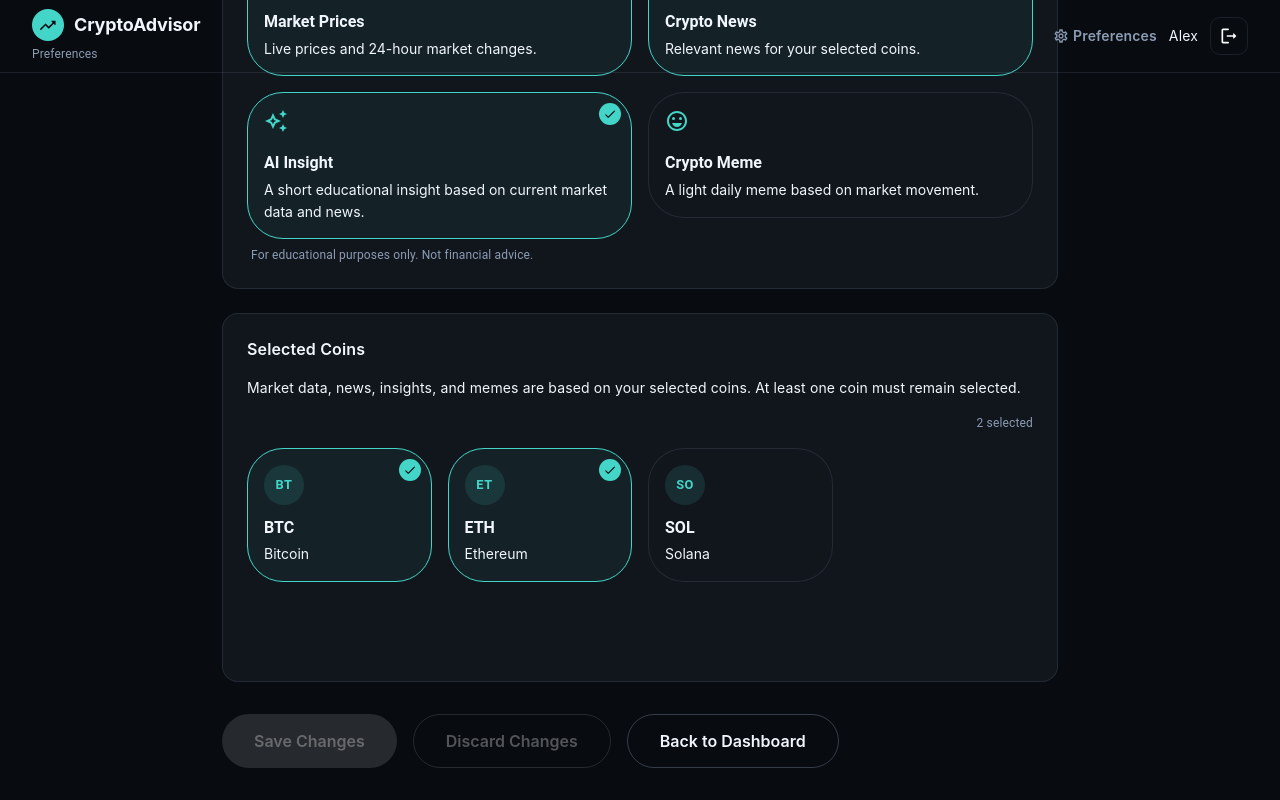
preferences page › shows a safe error when coin updates fail
The image size is (1280, 800).
(page scrolled)
Expected: the button "Save Changes" is shown, x1=222 y1=714 x2=397 y2=768
Click the button "SO SOL Solana" at (740, 515), box x1=648 y1=448 x2=832 y2=582
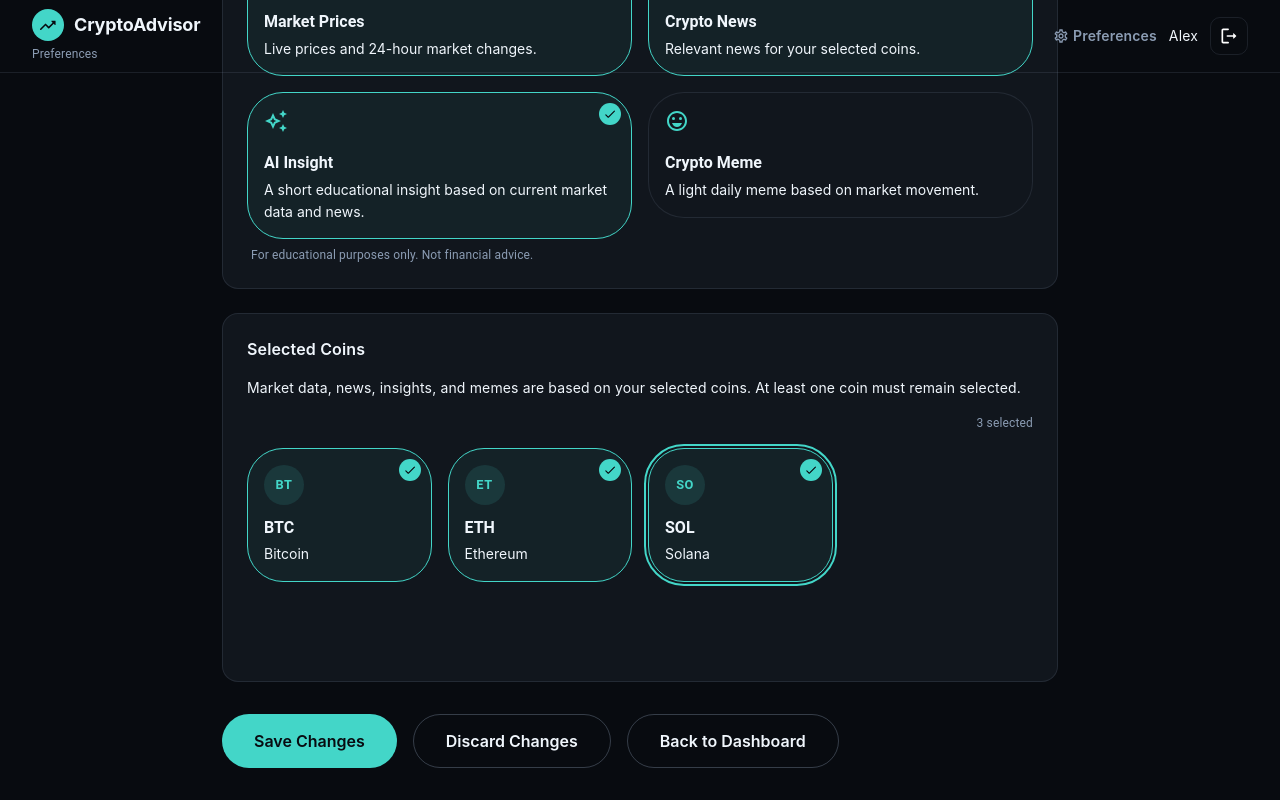
Click the button "Save Changes" at (309, 741), box x1=222 y1=714 x2=397 y2=768
(page scrolled)
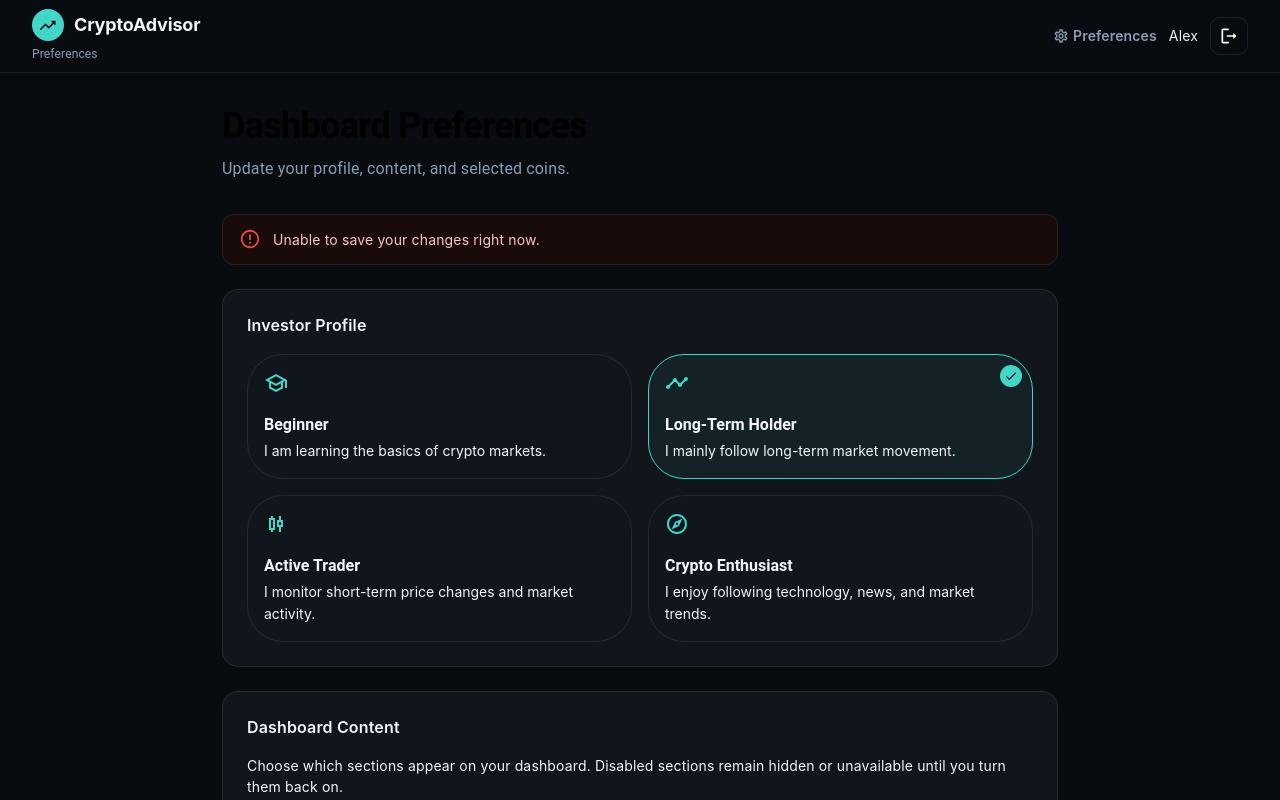
Result: the text "Unable to save your changes right now." is shown at x1=273 y1=231 x2=540 y2=248
